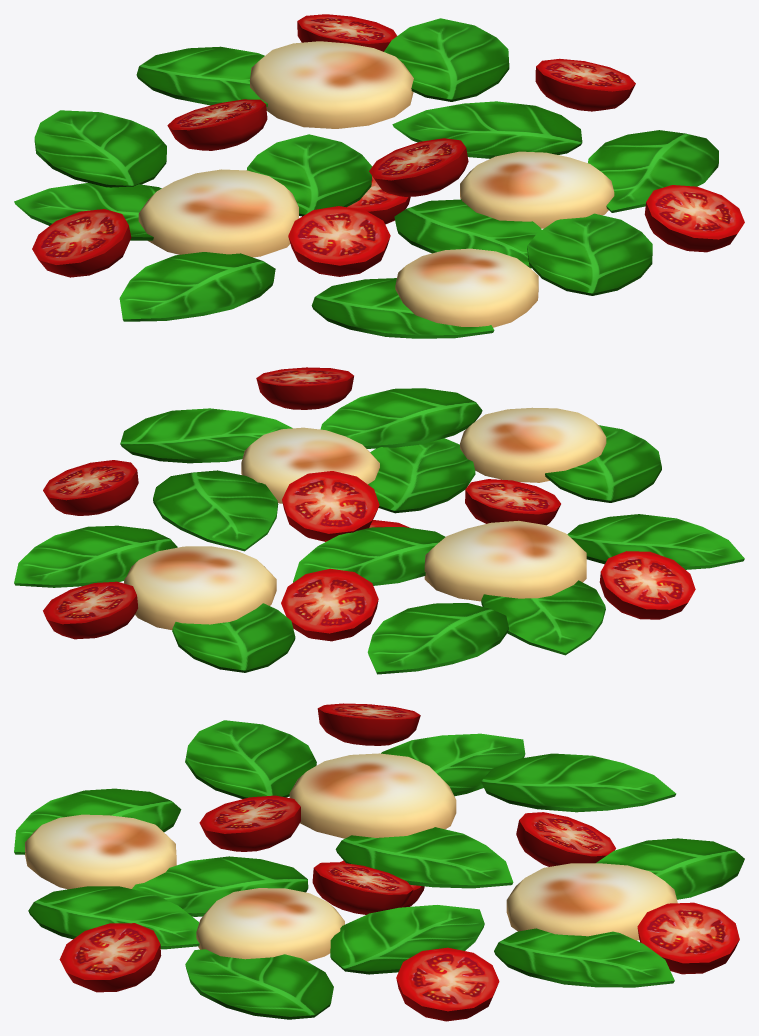
The model's file is Toppings_Margherita.fbx.
3 views of the same model, one above another, from view 1: azimuth 30°, elevation 25°; view 2: azimuth 150°, elevation 25°; view 3: azimuth 270°, elevation 25° (orthographic). The views are drawn at different scales.
Parts seen in each view (by area): view 1: Toppings_Margherita; view 2: Toppings_Margherita; view 3: Toppings_Margherita.
Part boxes in pixels (x1=…): Toppings_Margherita: x1=14, y1=14, x2=744, y2=338; Toppings_Margherita: x1=14, y1=367, x2=744, y2=674; Toppings_Margherita: x1=14, y1=703, x2=744, y2=1021.
Bounding box in the file's own units: 124 × 12.71 × 123.
